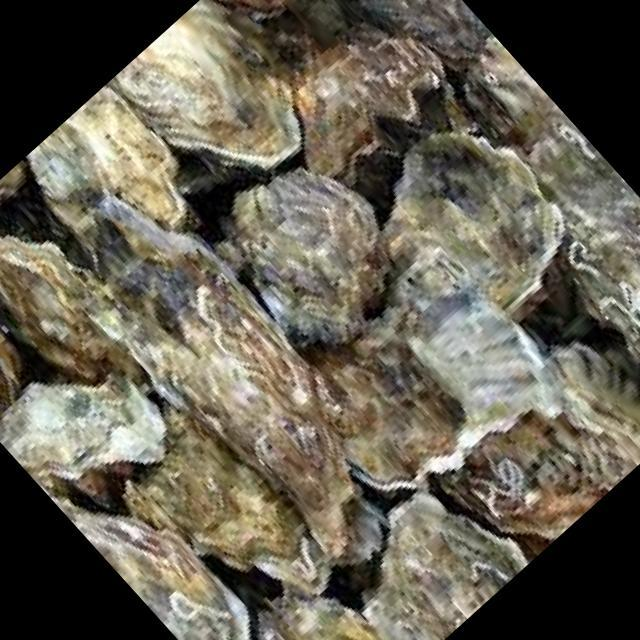Oyster- Indeterminate: (84, 186, 352, 418), (311, 249, 548, 486), (144, 316, 356, 506), (29, 477, 262, 640), (0, 81, 205, 253), (109, 0, 302, 175), (372, 136, 572, 304), (0, 231, 170, 411), (358, 486, 556, 640), (0, 357, 186, 510), (233, 168, 389, 349), (130, 417, 316, 561), (518, 122, 640, 282), (346, 0, 523, 72), (447, 34, 558, 142), (245, 592, 416, 640)
Oyster-Closed: (298, 32, 441, 225)
